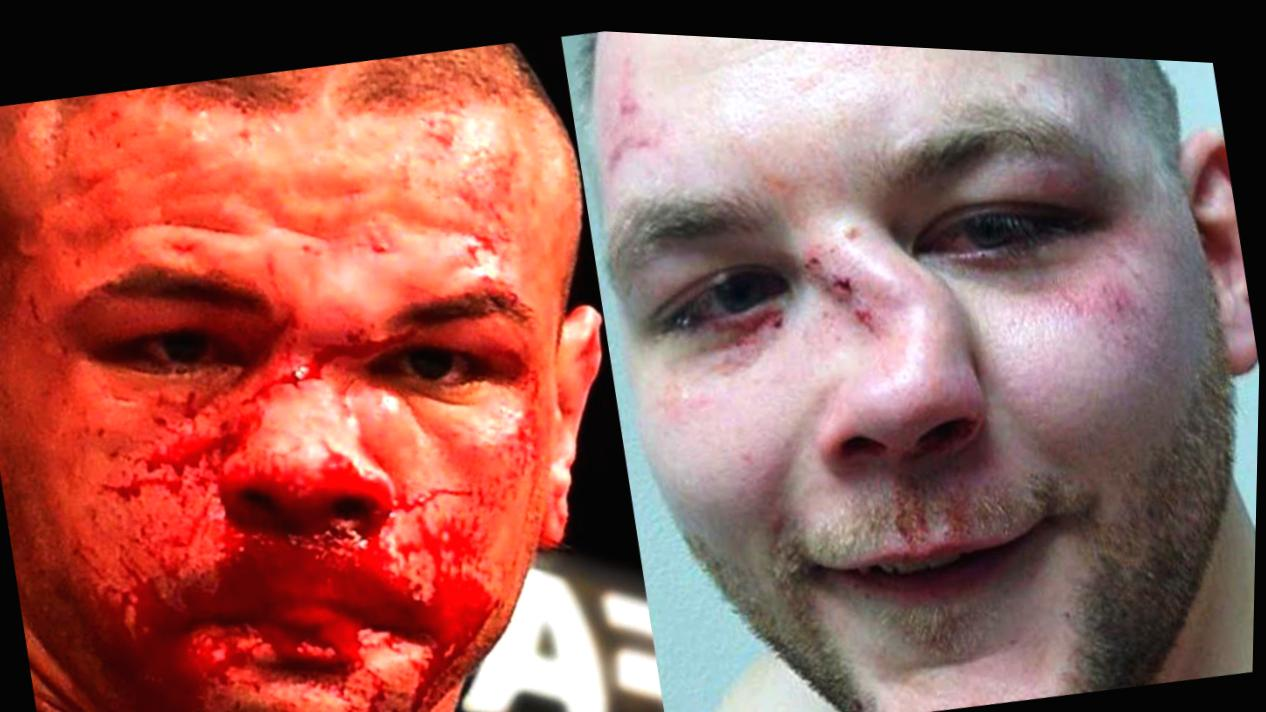Fire: (41, 204, 590, 712), (872, 451, 1009, 563), (803, 217, 891, 327), (691, 287, 785, 364)
